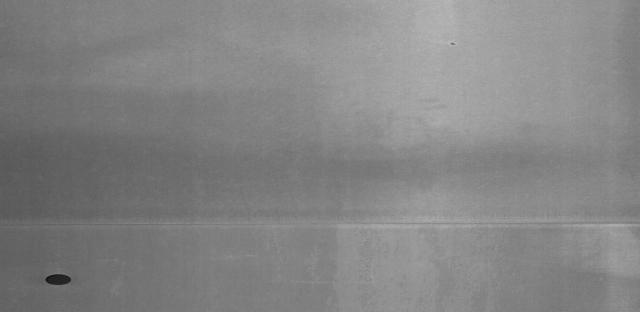oil_spot: (448, 38, 460, 50)
punching_hole: (40, 271, 76, 288)
welding_line: (3, 212, 637, 235)
